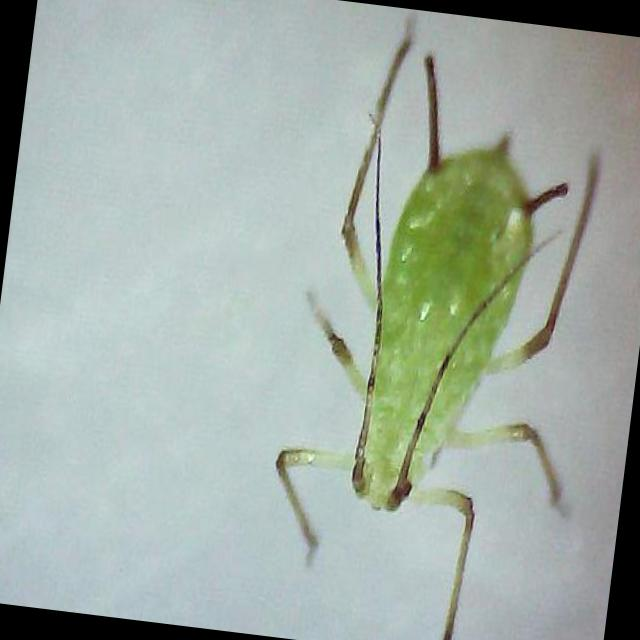Aphid: (254, 57, 622, 608)
